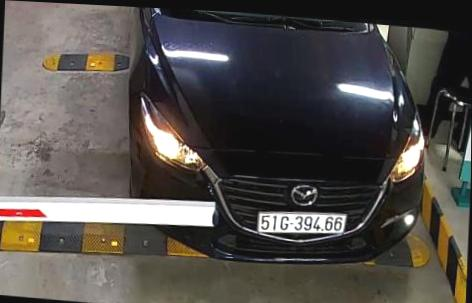License_Plate: (248, 199, 352, 243)
